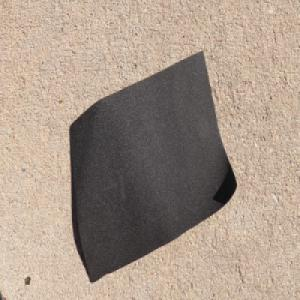PaintChip: (69, 50, 239, 285)
